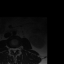CCS_normal: (13, 46, 15, 54)
LFS_normal: (17, 45, 19, 52)
LLS_normal: (15, 45, 17, 52)
RFS_normal: (9, 46, 11, 52)
RLS_normal: (11, 46, 13, 52)
